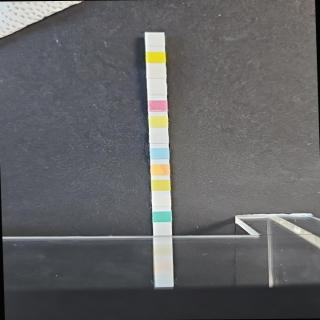mark: (151, 162, 169, 175), (152, 195, 170, 207), (152, 179, 170, 191), (148, 100, 166, 112), (148, 83, 166, 95), (148, 67, 166, 79), (146, 52, 164, 64), (146, 35, 164, 47), (150, 115, 166, 128), (151, 147, 168, 159), (151, 132, 168, 144), (154, 210, 170, 222)
